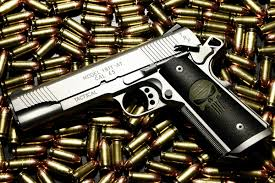Arma Real: (6, 22, 274, 157)
